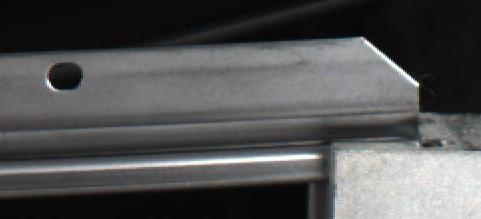cut: (269, 37, 423, 181)
holes: (45, 59, 84, 92)
